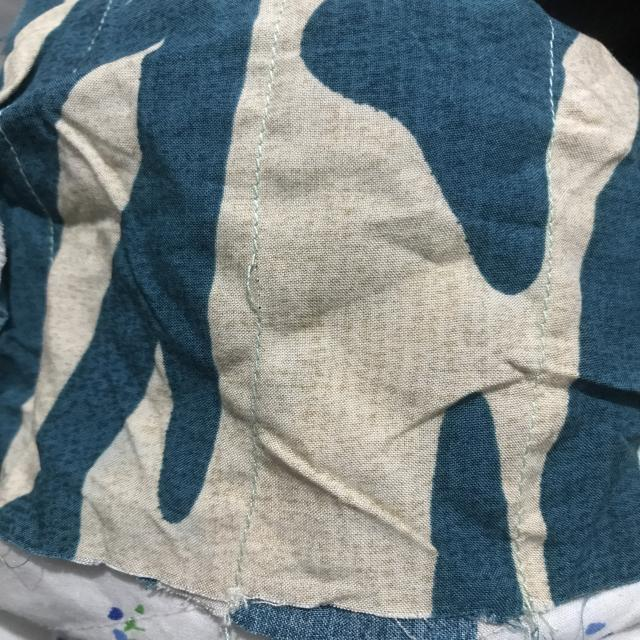good: (240, 129, 274, 207)
skip: (238, 240, 272, 327)
